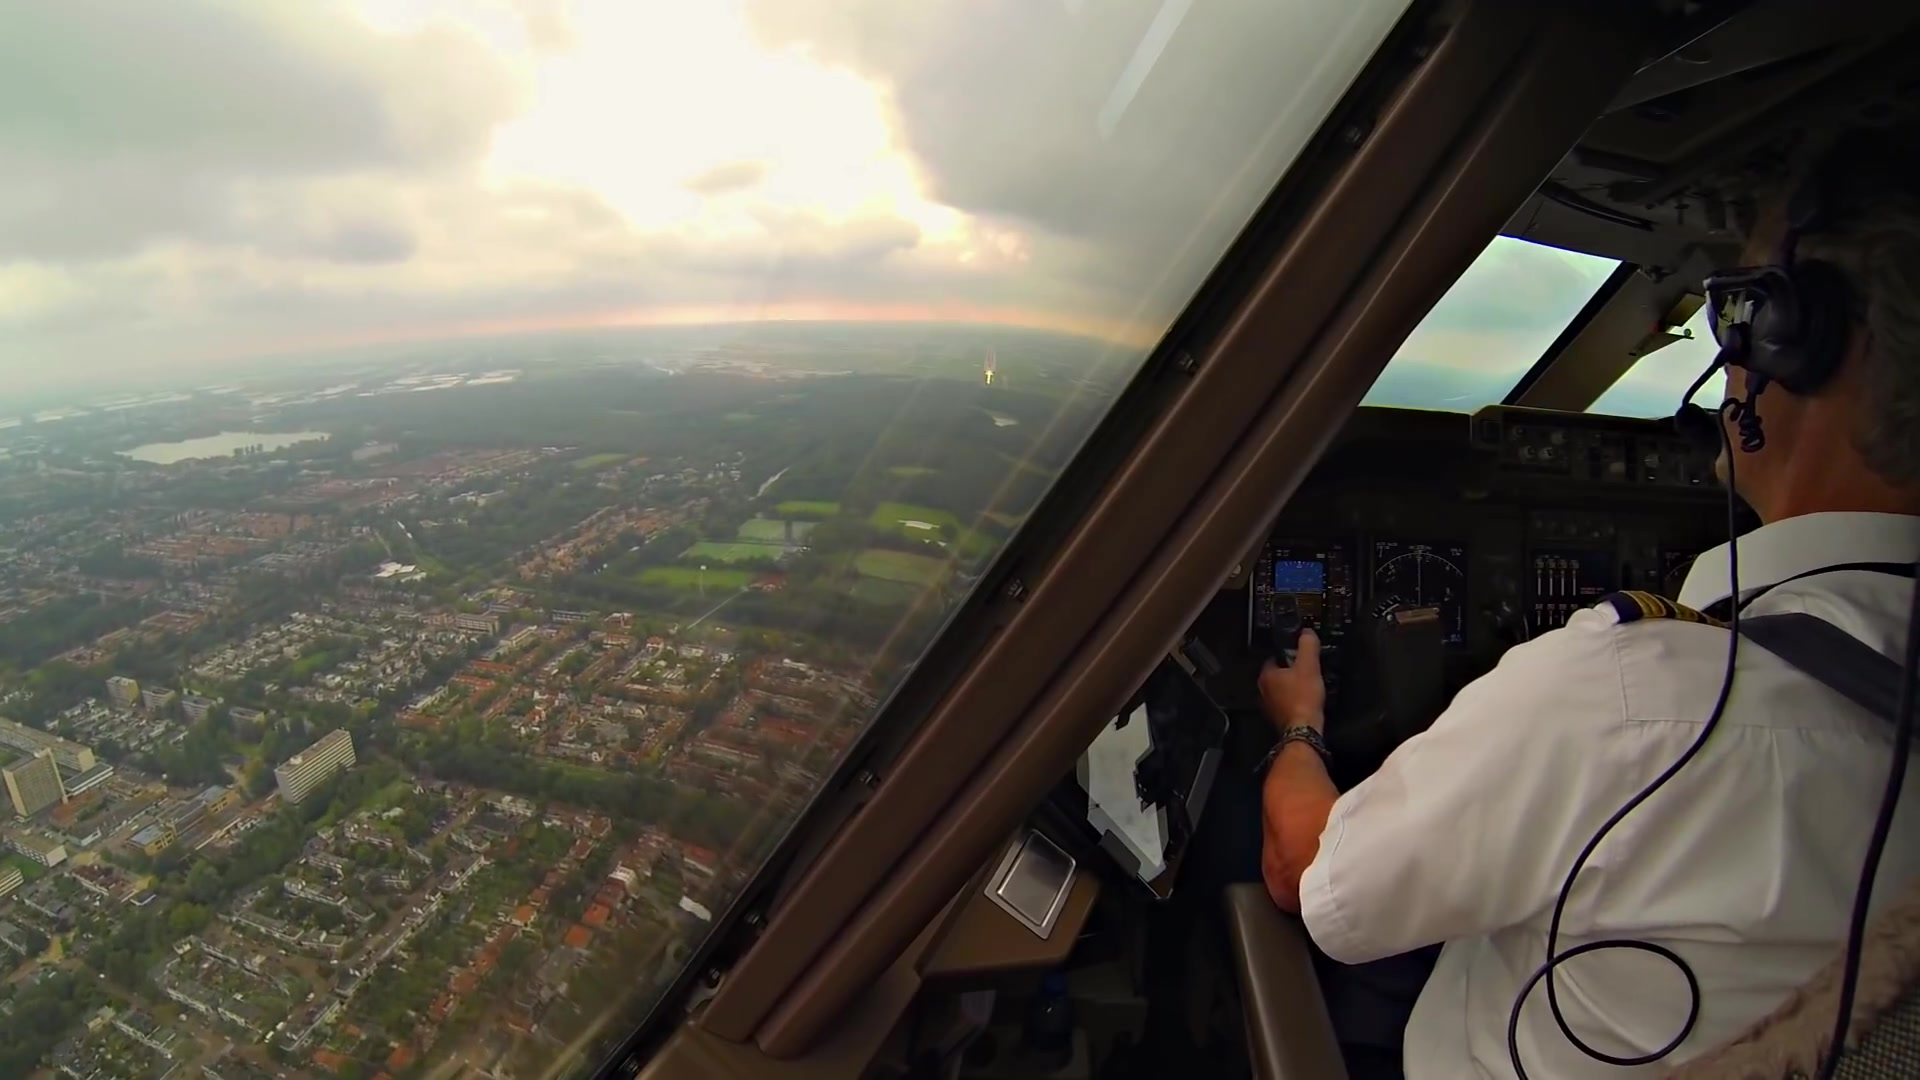runway: (984, 345, 996, 372)
